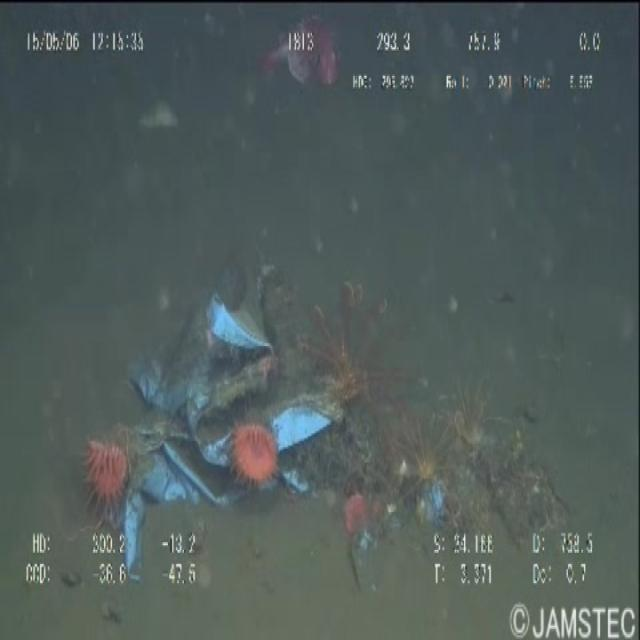Accessories: (92, 235, 404, 592)
Litter: (262, 14, 350, 104)
